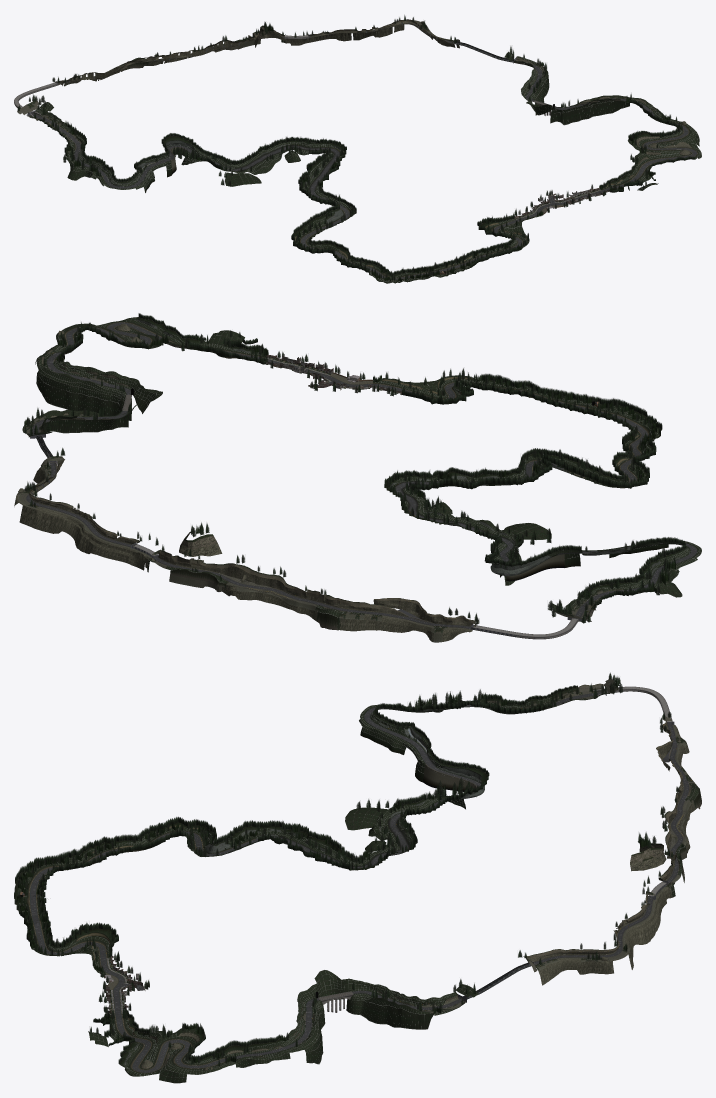
File: nfs_iii_hot_pursuit_-_rocky_pass.glb
3 renders of one model, top to bottom at view 1: azimuth 30°, elevation 25°; view 2: azimuth 150°, elevation 25°; view 3: azimuth 270°, elevation 25°, orthographic. The views are drawn at different scales.
Visible parts, largest first — view 1: 0018.001_material_atlas_00005_1_0, 0006.001_material_atlas_00005_1_0, 0017.001_material_atlas_00005_1_0, 0005.003_material_atlas_00005_1_0; view 2: 0018.001_material_atlas_00005_1_0, 0017.001_material_atlas_00005_1_0, 0004.001_material_atlas_00005_1_0, 0006.001_material_atlas_00005_1_0, 0014.014_material_atlas_00005_1_0, 0014.001_material_atlas_00005_1_0, 0005.003_material_atlas_00005_1_0, 0023.012_material_atlas_00005_1_0, 0014.013_material_atlas_00005_1_0, 0014.002_material_atlas_00005_1_0, 0004.012_material_atlas_00005_1_0, 0021.003_material_atlas_00005_1_0 (+3 smaller); view 3: 0006.001_material_atlas_00005_1_0, 0018.001_material_atlas_00005_1_0, 0017.001_material_atlas_00005_1_0, 0016.042_material_atlas_00005_1_0, 0017.008_material_atlas_00005_1_0, 0002.001_material_atlas_00005_1_0, 0019.001_material_atlas_00005_1_0, 0004.001_material_atlas_00005_1_0.
Part boxes in pixels (box(x1,y1,x2,y2)): 0018.001_material_atlas_00005_1_0: box(579, 95, 664, 120); 0006.001_material_atlas_00005_1_0: box(181, 151, 263, 186); 0017.001_material_atlas_00005_1_0: box(530, 81, 580, 125); 0005.003_material_atlas_00005_1_0: box(256, 148, 333, 173); 0018.001_material_atlas_00005_1_0: box(35, 345, 96, 411); 0017.001_material_atlas_00005_1_0: box(72, 383, 131, 432); 0004.001_material_atlas_00005_1_0: box(413, 464, 552, 490); 0006.001_material_atlas_00005_1_0: box(482, 520, 551, 585); 0014.014_material_atlas_00005_1_0: box(34, 507, 133, 562); 0014.001_material_atlas_00005_1_0: box(40, 509, 137, 566); 0005.003_material_atlas_00005_1_0: box(403, 488, 488, 529); 0023.012_material_atlas_00005_1_0: box(432, 380, 525, 404); 0014.013_material_atlas_00005_1_0: box(36, 508, 134, 559); 0014.002_material_atlas_00005_1_0: box(43, 508, 136, 565); 0004.012_material_atlas_00005_1_0: box(393, 467, 520, 477); 0021.003_material_atlas_00005_1_0: box(179, 330, 266, 357); 0006.001_material_atlas_00005_1_0: box(345, 795, 465, 832); 0018.001_material_atlas_00005_1_0: box(230, 1014, 323, 1067); 0017.001_material_atlas_00005_1_0: box(312, 993, 390, 1031); 0016.042_material_atlas_00005_1_0: box(389, 984, 478, 1029); 0017.008_material_atlas_00005_1_0: box(297, 970, 402, 1013); 0002.001_material_atlas_00005_1_0: box(71, 816, 198, 856); 0019.001_material_atlas_00005_1_0: box(159, 1043, 232, 1083); 0004.001_material_atlas_00005_1_0: box(245, 820, 355, 860).
Bounding box in the file's own units: 2341 × 314 × 1912.
1 material, 1 textured.
